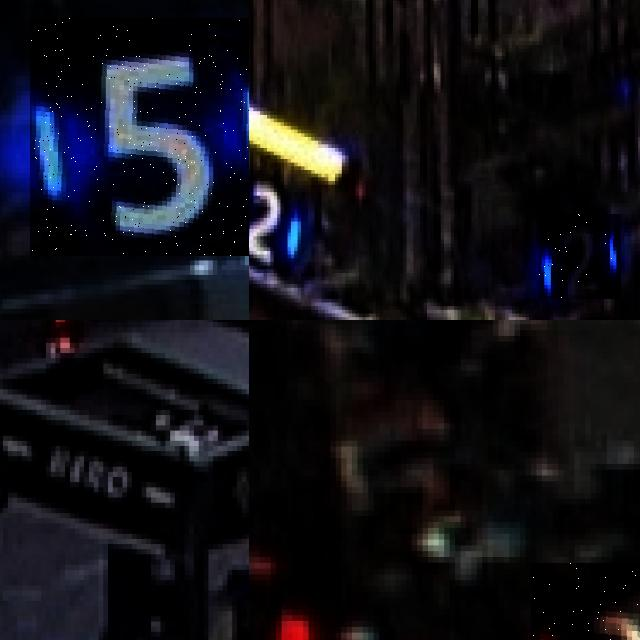B2: (539, 214, 621, 299), (249, 170, 301, 273)
B5: (30, 18, 249, 255)
R1: (530, 563, 640, 640), (265, 603, 444, 640)
